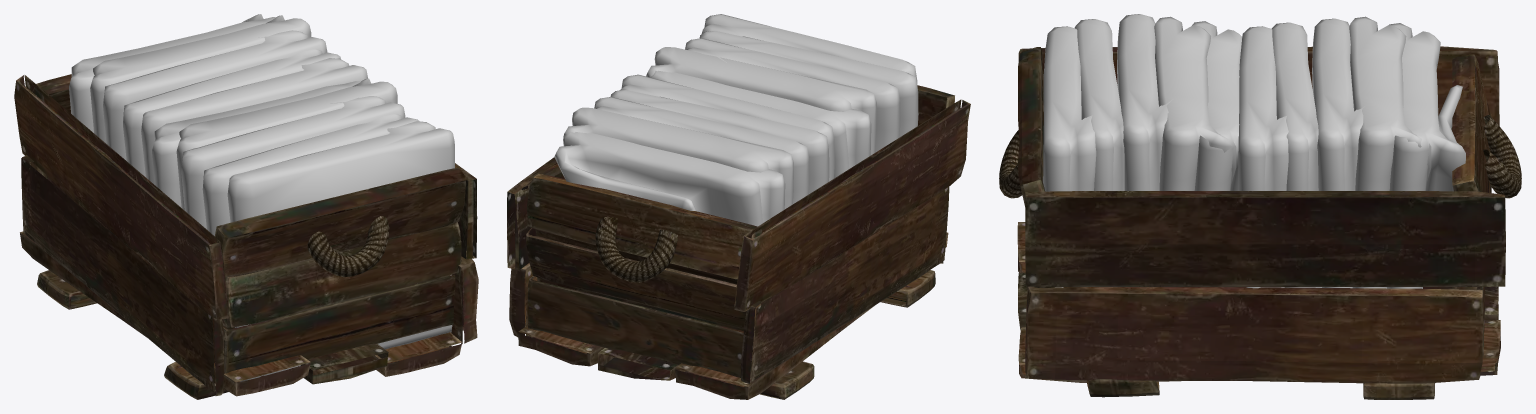
3 views of the same model, side by side, from view 1: azimuth 30°, elevation 25°; view 2: azimuth 150°, elevation 25°; view 3: azimuth 270°, elevation 25° (orthographic). The views are drawn at different scales.
Visible parts, largest first — view 1: SM_Dec_Garou_Chest_Cloth_Wool_Small_LOD0; view 2: SM_Dec_Garou_Chest_Cloth_Wool_Small_LOD0; view 3: SM_Dec_Garou_Chest_Cloth_Wool_Small_LOD0.
Boxes of the visible parts, box(x1,y1,x2,y2) form: SM_Dec_Garou_Chest_Cloth_Wool_Small_LOD0: box(14, 14, 478, 399); SM_Dec_Garou_Chest_Cloth_Wool_Small_LOD0: box(507, 14, 970, 399); SM_Dec_Garou_Chest_Cloth_Wool_Small_LOD0: box(999, 14, 1521, 399).
Size of the model in its own units: 0.6922 by 0.5388 by 0.9929.
